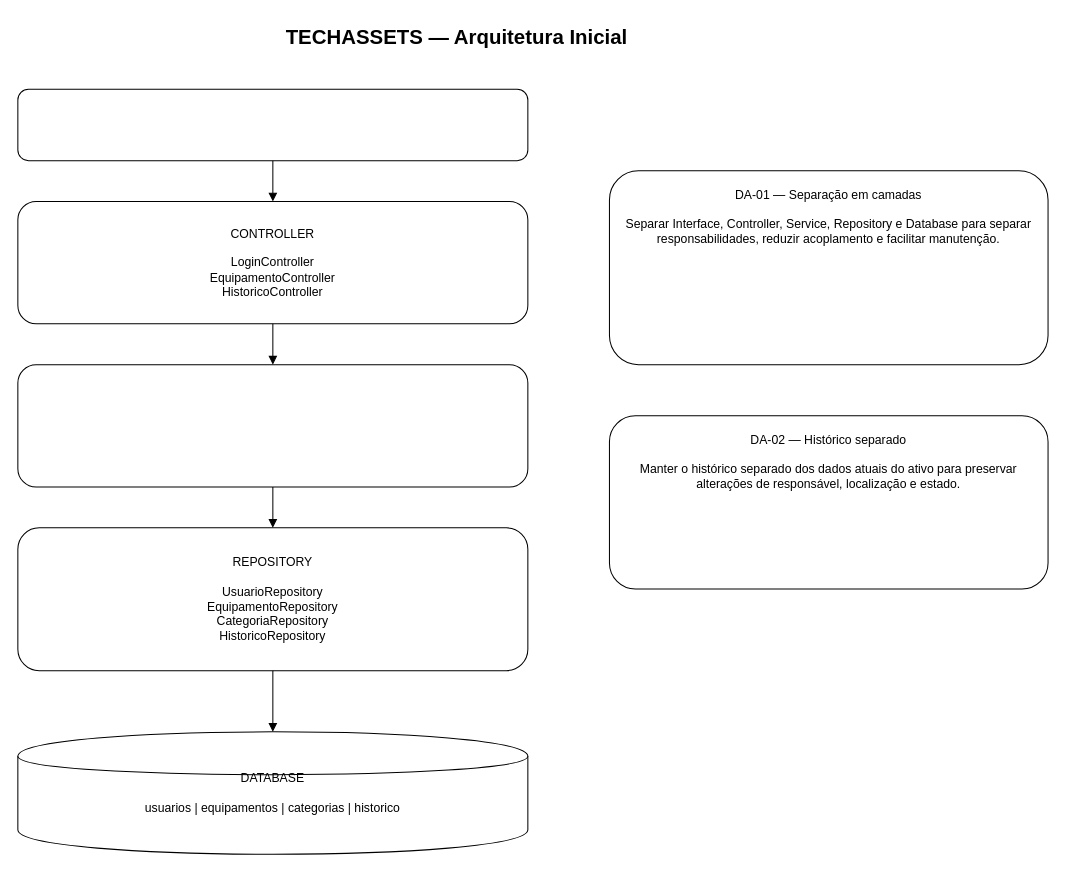
Image size: 1066x872. Some labels were removed from this diagram. Here are the shapes that lost their labels. From the top down, the box of each, then its label:
(17, 88, 528, 161): USUÁRIO / INTERFACE WEB
(17, 364, 528, 487): SERVICE UsuarioService EquipamentoService HistoricoService
